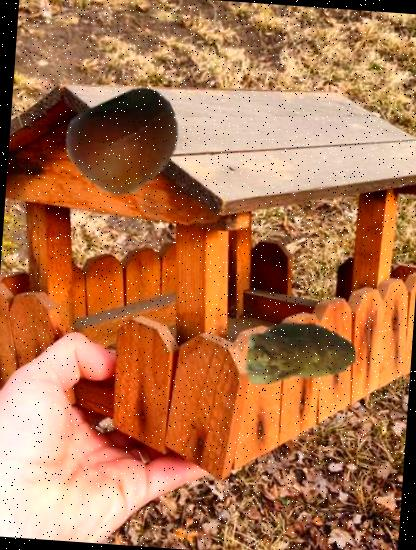Ginger: (238, 294, 362, 416)
Nut: (64, 82, 187, 205)
